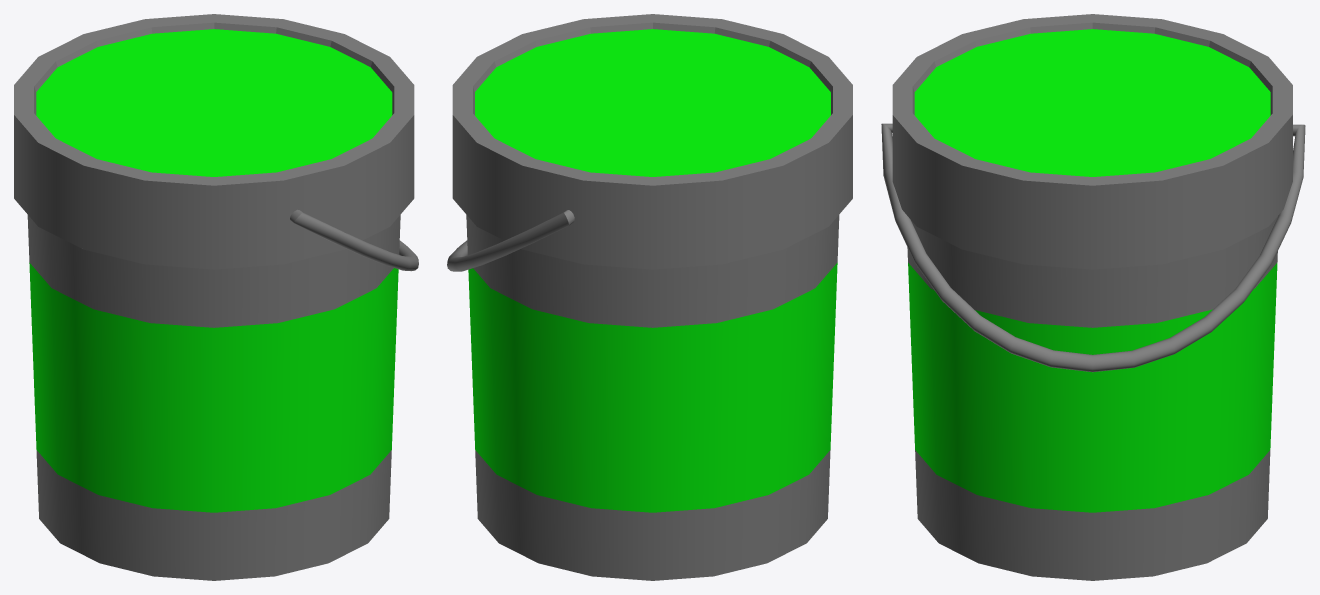
File: paintBuckeet.FBX
3 renders of one model, left to right at view 1: azimuth 30°, elevation 25°; view 2: azimuth 150°, elevation 25°; view 3: azimuth 270°, elevation 25°, orthographic.
Parts seen in each view (by area): view 1: Cylinder001, Cylinder002; view 2: Cylinder001, Cylinder002; view 3: Cylinder001, Cylinder002.
Boxes of the visible parts, x1,y1,x2,y2 form: Cylinder001: (14, 14, 414, 580); Cylinder002: (290, 209, 418, 271); Cylinder001: (452, 14, 852, 580); Cylinder002: (447, 210, 574, 271); Cylinder001: (892, 14, 1292, 580); Cylinder002: (881, 123, 1305, 372).
Bounding box in the file's own units: 24.36 × 26.63 × 25.21.
